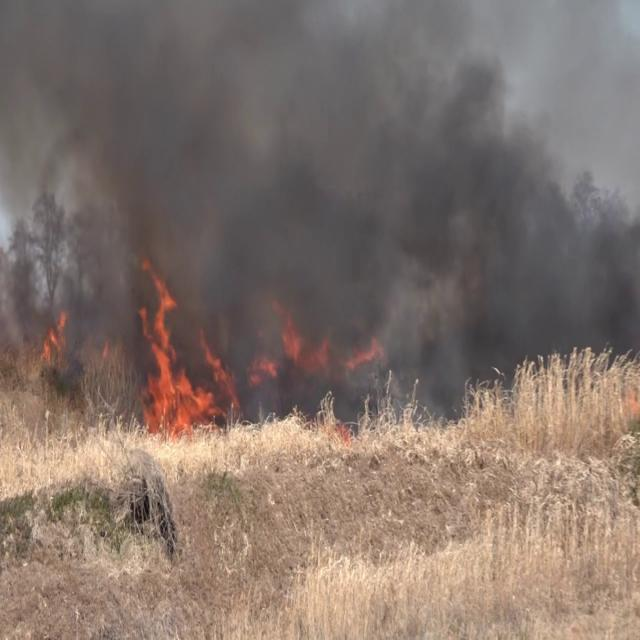Fire: (135, 261, 231, 436), (41, 306, 71, 368)
Smoke: (0, 0, 640, 424)
